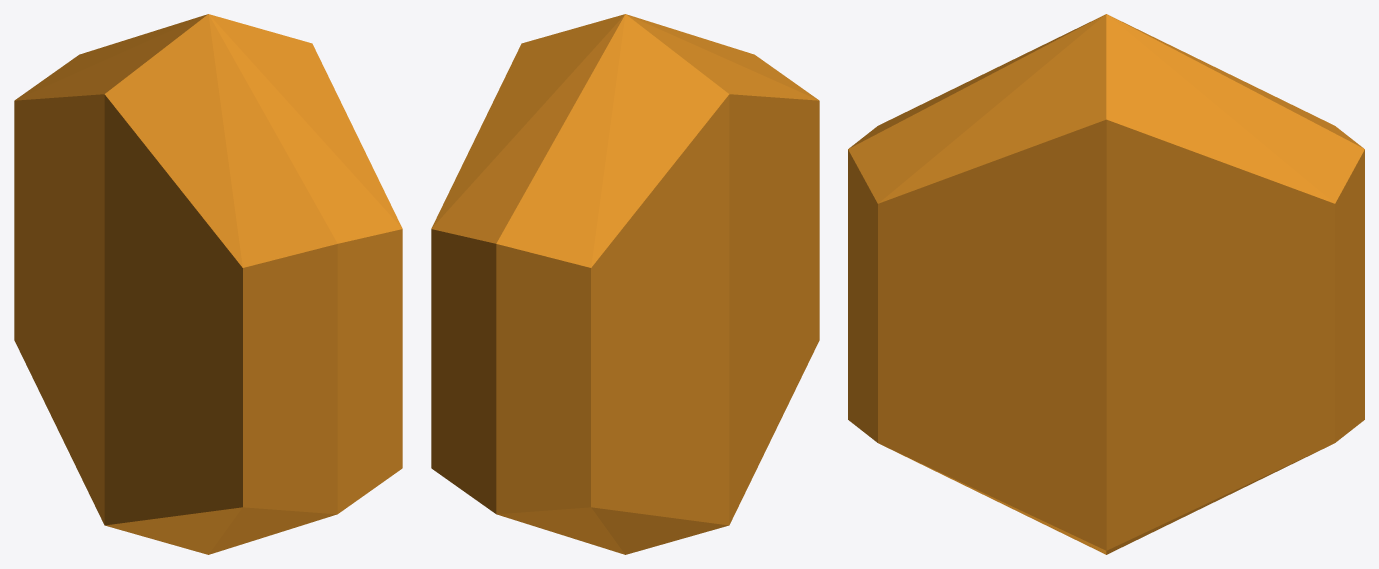
The model's file is OrangeGem.obj.
The picture shows the model from 3 angles, left to right: view 1: azimuth 30°, elevation 25°; view 2: azimuth 150°, elevation 25°; view 3: azimuth 270°, elevation 25°; orthographic projection.
Parts seen in each view (by area): view 1: Gem3.001; view 2: Gem3.001; view 3: Gem3.001.
Part boxes in pixels (x1=…): Gem3.001: x1=14, y1=14, x2=402, y2=554; Gem3.001: x1=431, y1=14, x2=819, y2=554; Gem3.001: x1=848, y1=14, x2=1364, y2=554.
Size of the model in its own units: 0.2645 by 0.6579 by 0.5697.
1 material, 1 textured.
